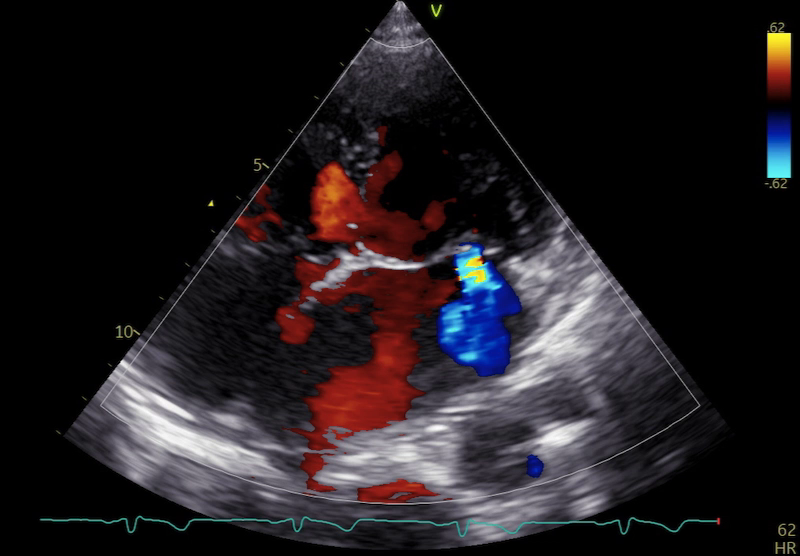MR: (438, 239, 522, 331)
